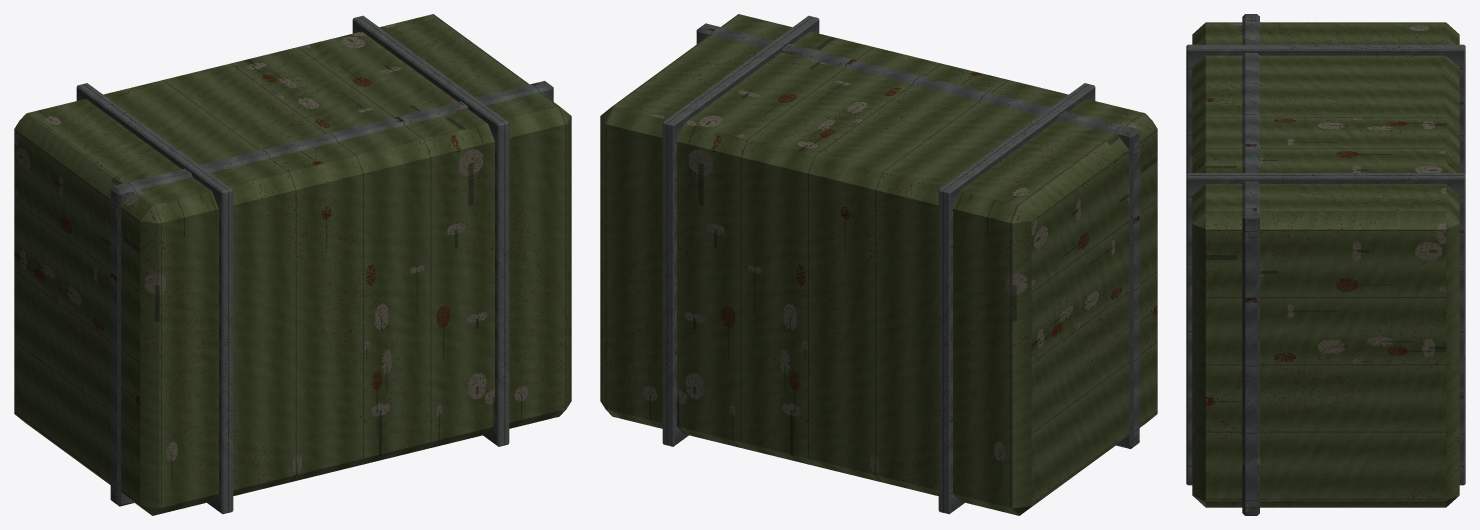
The model's file is kit-sealed_case.obj.
The picture shows the model from 3 angles, left to right: view 1: azimuth 30°, elevation 25°; view 2: azimuth 150°, elevation 25°; view 3: azimuth 270°, elevation 25°; orthographic projection. The views are drawn at different scales.
Parts seen in each view (by area): view 1: Reusable.sealed_case; view 2: Reusable.sealed_case; view 3: Reusable.sealed_case.
Part boxes in pixels (<box>): Reusable.sealed_case: <box>14,14,571,515</box>; Reusable.sealed_case: <box>600,14,1157,515</box>; Reusable.sealed_case: <box>1186,14,1465,515</box>.
Size of the model in its own units: 3.24 by 2.38 by 1.88.
4 materials, 4 textured.
